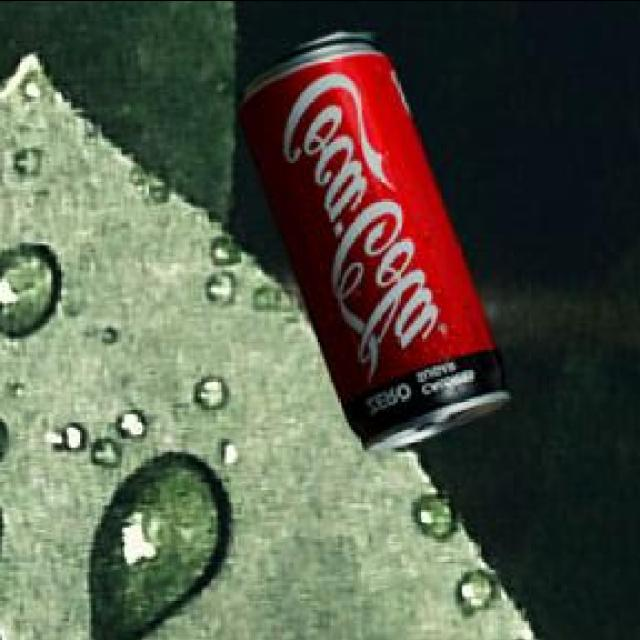logam: (234, 28, 506, 448)
